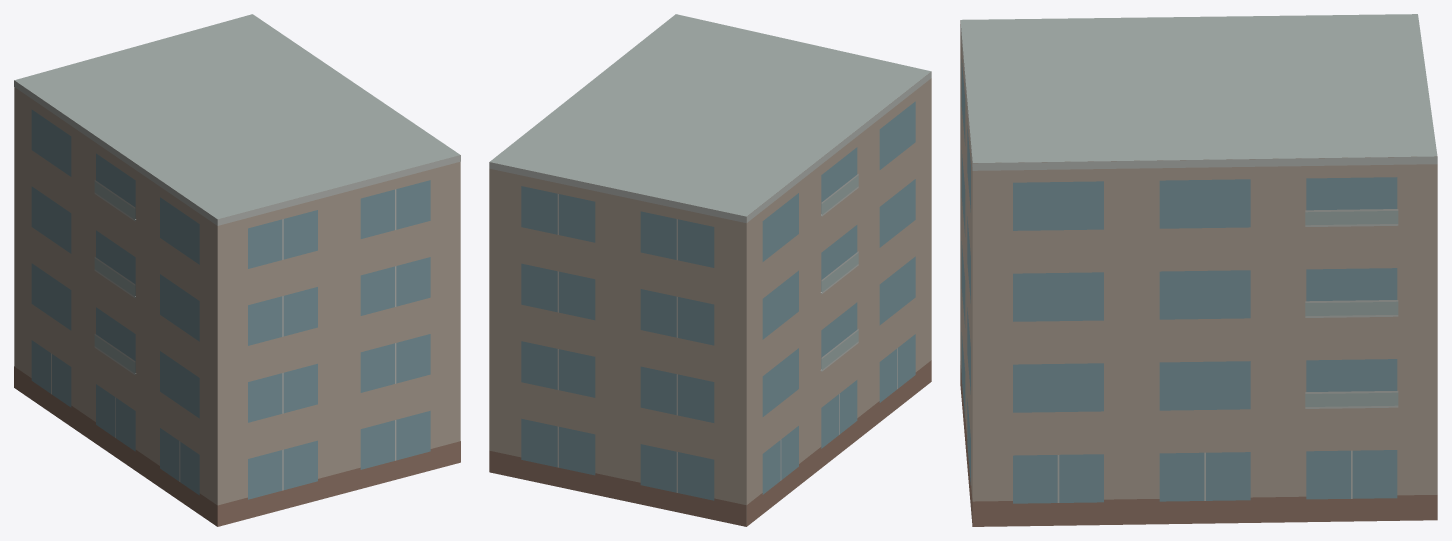
File: survey-upis-32732786.glb
The picture shows the model from 3 angles, left to right: view 1: azimuth 30°, elevation 25°; view 2: azimuth 150°, elevation 25°; view 3: azimuth 270°, elevation 25°; orthographic projection. The views are drawn at different scales.
Visible parts, largest first — view 1: survey-upis-32732786.tmp; view 2: survey-upis-32732786.tmp; view 3: survey-upis-32732786.tmp.
Boxes of the visible parts, bbox=[...] form: survey-upis-32732786.tmp: bbox=[14, 14, 460, 526]; survey-upis-32732786.tmp: bbox=[489, 14, 931, 526]; survey-upis-32732786.tmp: bbox=[960, 14, 1437, 526].
Bounding box in the file's own units: 10.03 × 11.4 × 13.56.
